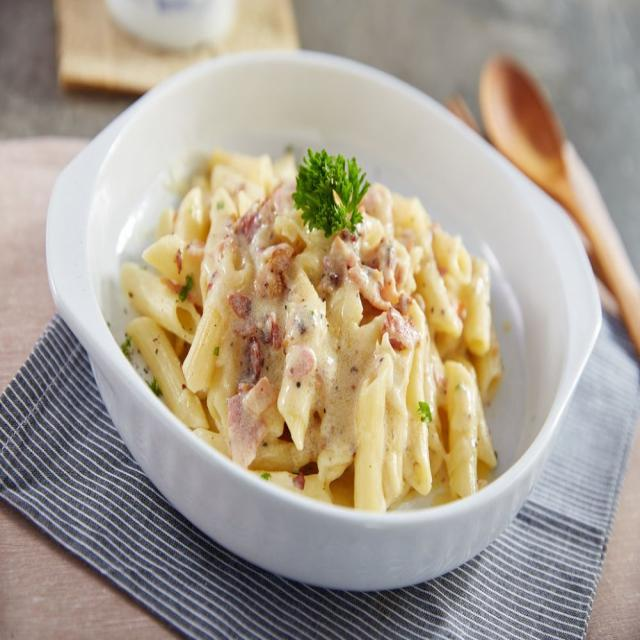Pasta with carbonara sauce: (108, 71, 547, 553)
